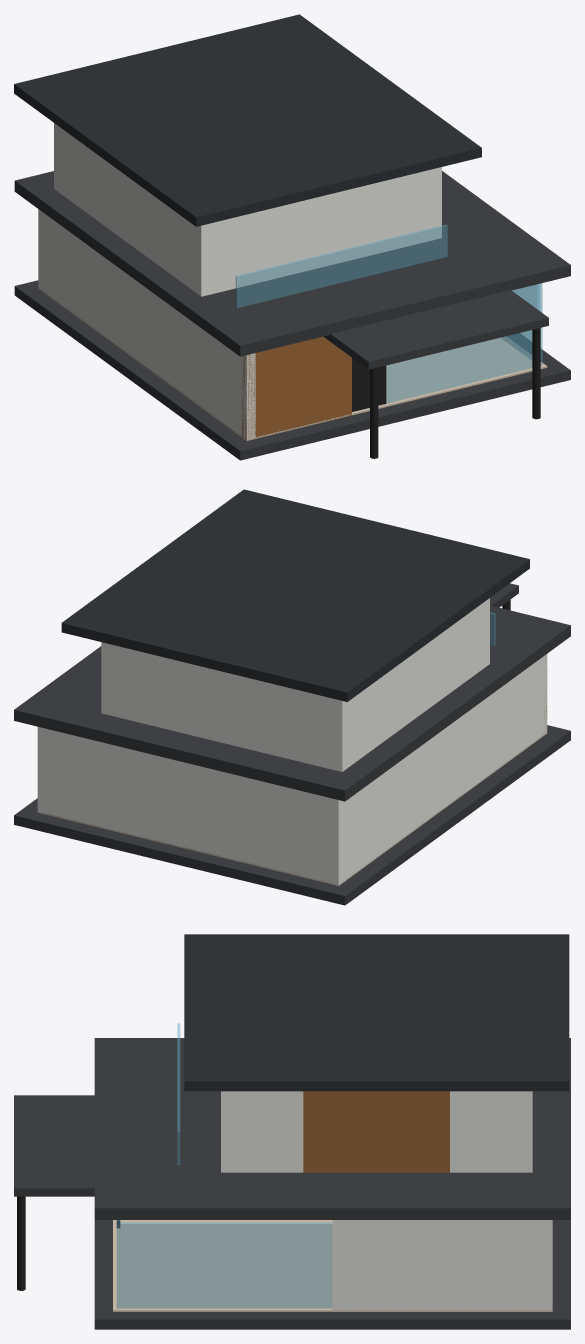
Rendered from casa.glb.
The picture shows the model from 3 angles, top to bottom: view 1: azimuth 30°, elevation 25°; view 2: azimuth 150°, elevation 25°; view 3: azimuth 270°, elevation 25°; orthographic projection. The views are drawn at different scales.
Size of the model in its own units: 11.05 by 6.75 by 15.2.
